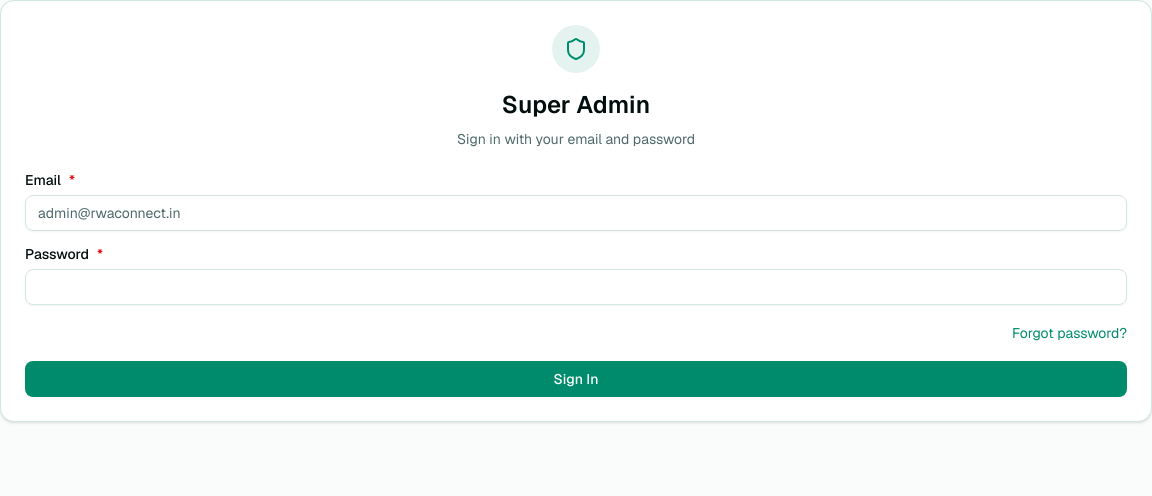
it: SuperAdminLoginPage › shows validation errors on empty submit
Click the button "Sign In". click: (576, 379)
box: [25,361,1127,397]
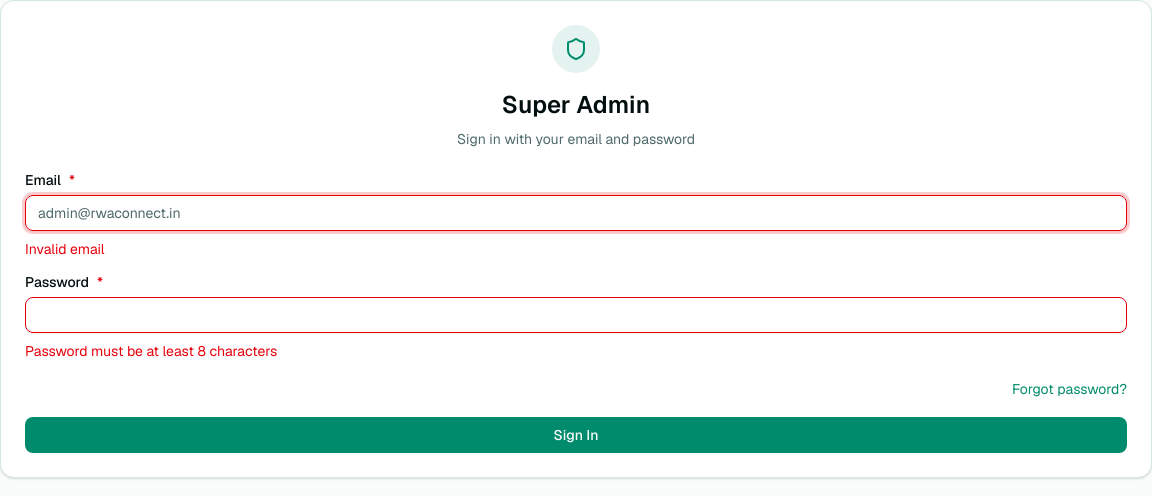
Expected: the text "Invalid email" is shown, [25,240,104,258]
